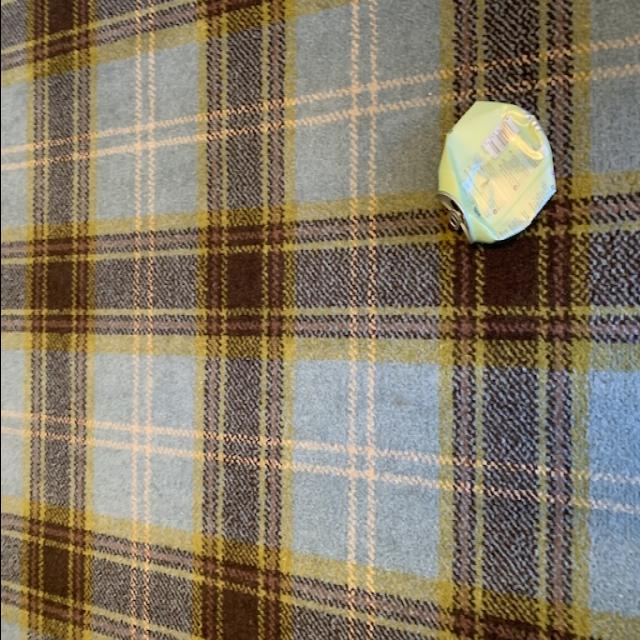Aluminum Can: (432, 100, 556, 248)
